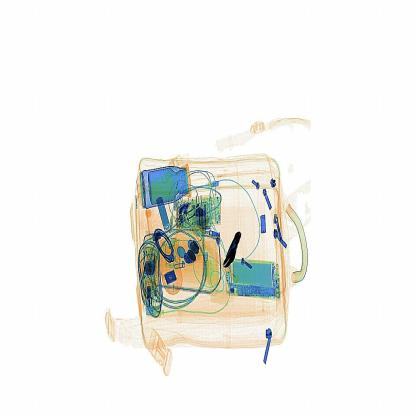knife: (223, 229, 242, 270)
